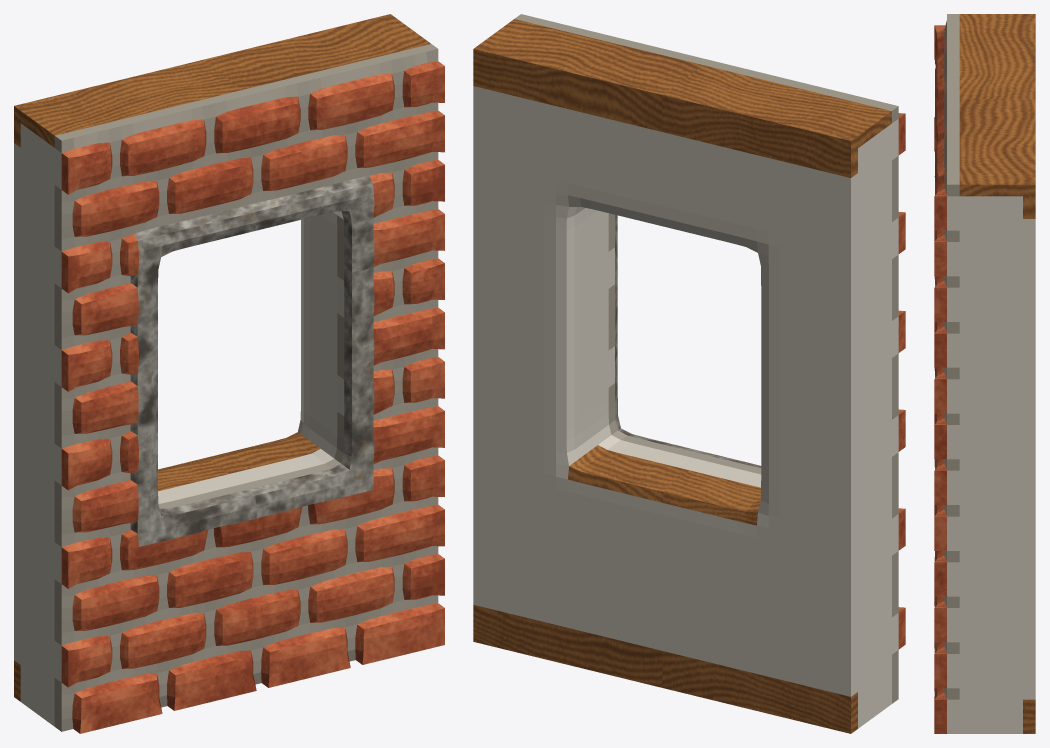
Rendered from wall_out_brick_window_open.glb.
The picture shows the model from 3 angles, left to right: view 1: azimuth 30°, elevation 25°; view 2: azimuth 150°, elevation 25°; view 3: azimuth 270°, elevation 25°; orthographic projection. The views are drawn at different scales.
Visible parts, largest first — view 1: town_wall_out_brick_window_open; view 2: town_wall_out_brick_window_open; view 3: town_wall_out_brick_window_open.
Part boxes in pixels (bbox=[...]): town_wall_out_brick_window_open: bbox=[14, 14, 444, 733]; town_wall_out_brick_window_open: bbox=[473, 14, 905, 733]; town_wall_out_brick_window_open: bbox=[934, 14, 1035, 733].
Size of the model in its own units: 1 by 1.5 by 0.25.
Materials: 3 (1 with a texture image).
